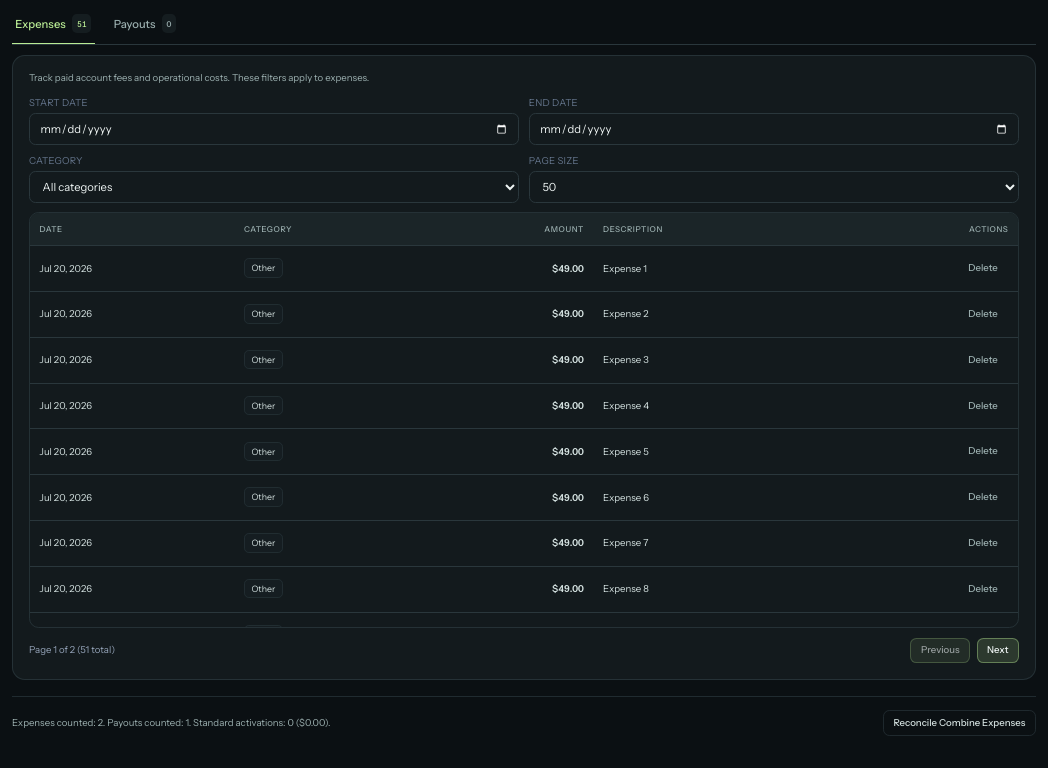
Test: ExpensesPage consolidated startup › does not move the viewport when an expense page finishes in the hidden tab
The image size is (1048, 768).
(page scrolled)
Check: the text "Page 1 of 2 (51 total)" is shown, box top-left (29, 644), bottom-right (115, 657)
Click the button "Next".
click(998, 651)  # box top-left (976, 638), bottom-right (1019, 664)
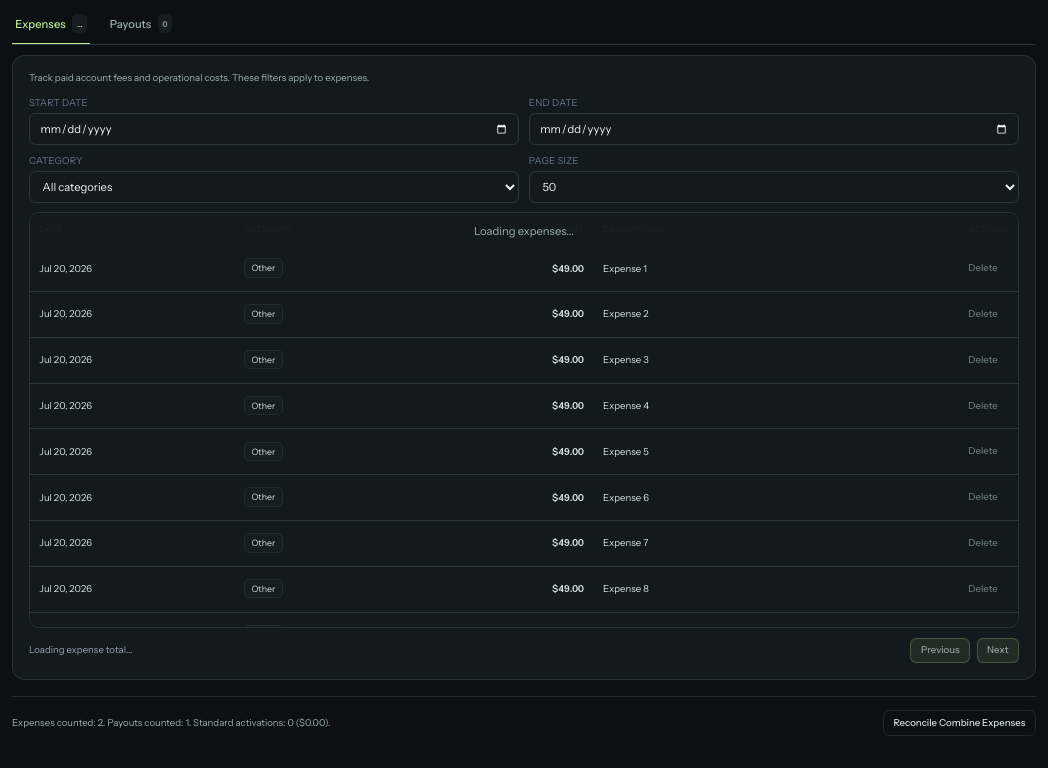
Click the tab "Payouts 0".
click(141, 24)  # box top-left (106, 5), bottom-right (175, 44)
(page scrolled)
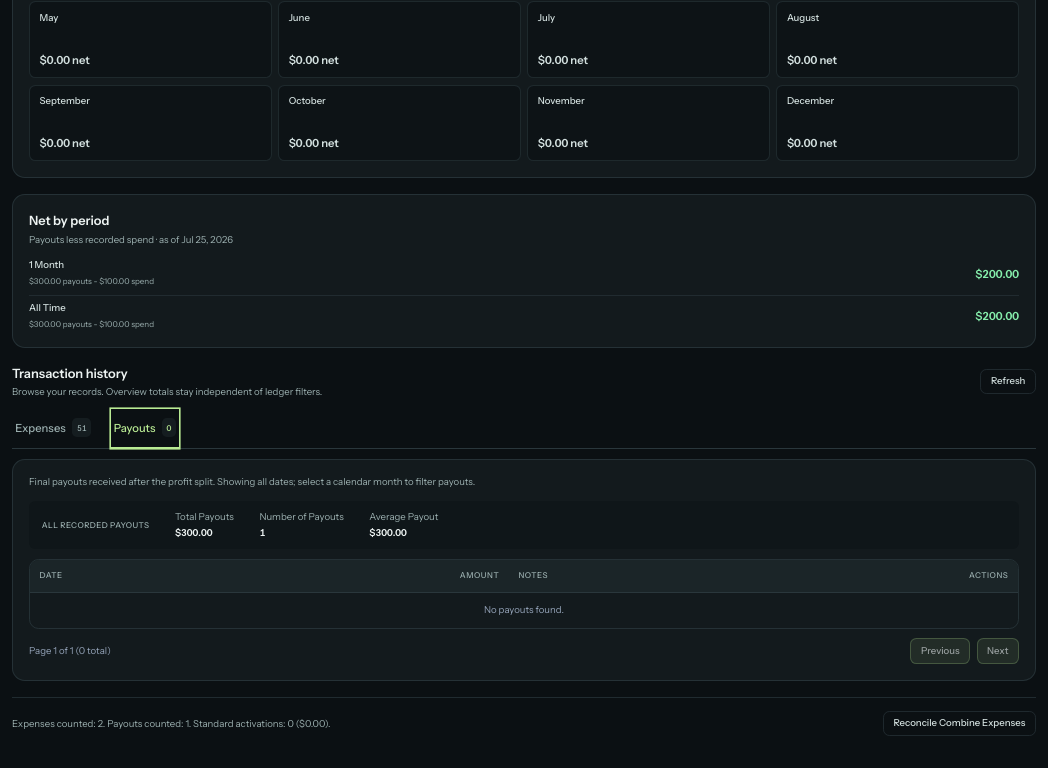
Check: the table "payouts" is shown, box top-left (30, 560), bottom-right (1018, 628)
Click the tab "Expenses 51".
click(53, 428)  # box top-left (12, 409), bottom-right (94, 448)
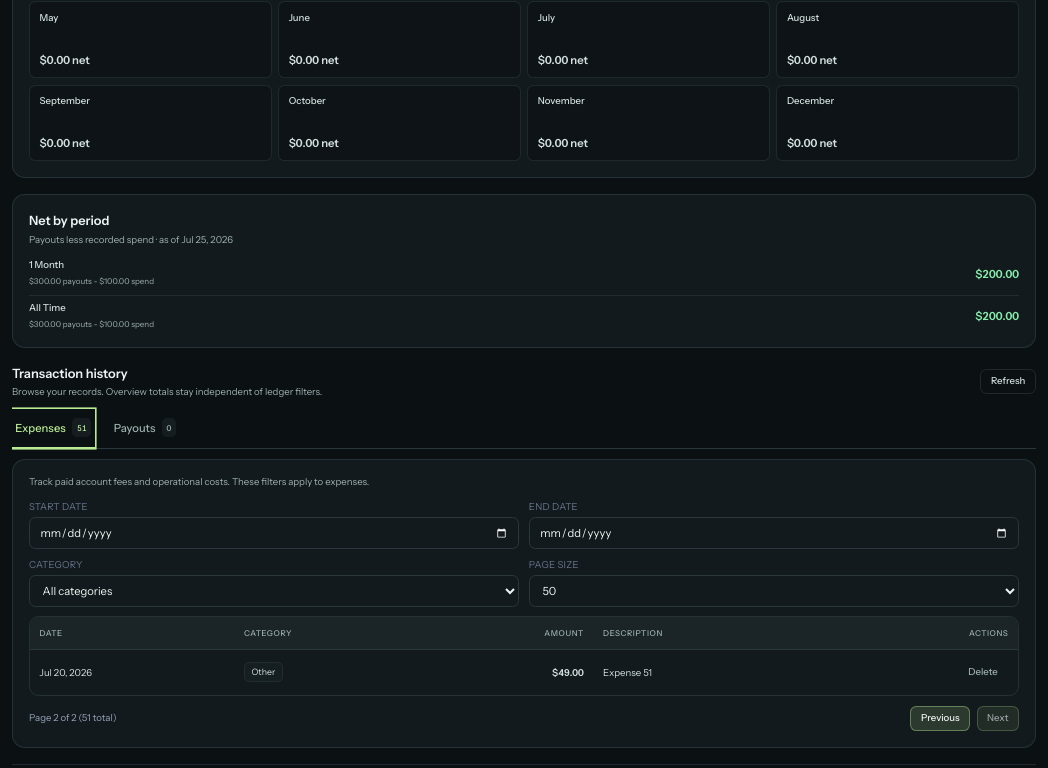
Check: the text "Page 2 of 2 (51 total)" is shown, box top-left (29, 712), bottom-right (117, 725)
Check: the text "Expense 51" is shown, box top-left (603, 667), bottom-right (652, 678)
